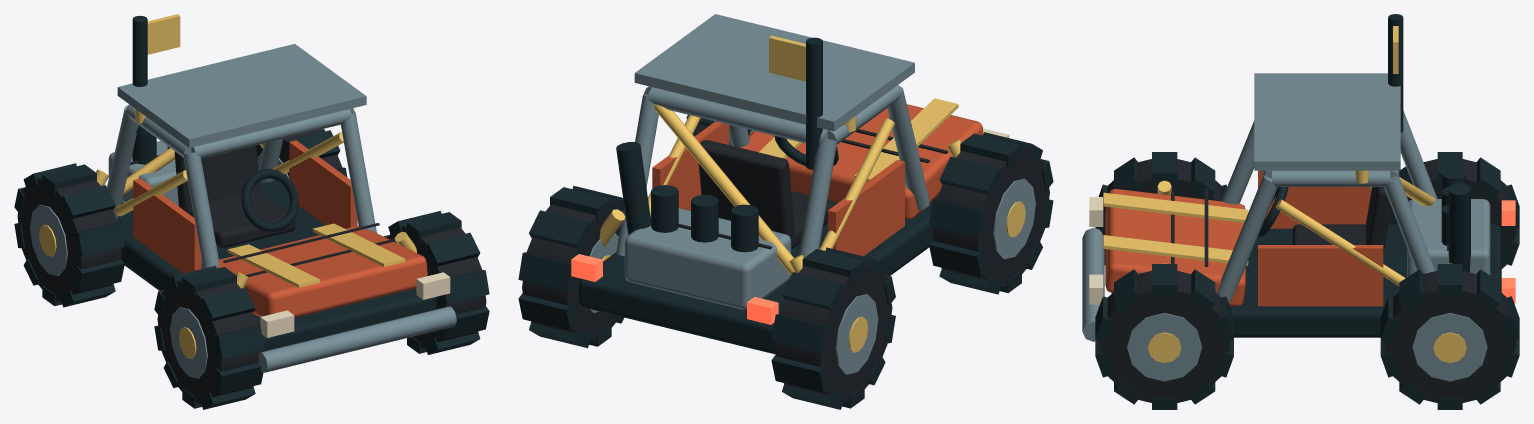
Rendered from row-six-rival-tally.glb.
The picture shows the model from 3 angles, left to right: view 1: azimuth 30°, elevation 25°; view 2: azimuth 150°, elevation 25°; view 3: azimuth 270°, elevation 25°; orthographic projection. The views are drawn at different scales.
Visible parts, largest first — view 1: row-six-rival-tally; view 2: row-six-rival-tally; view 3: row-six-rival-tally.
Boxes of the visible parts, <box> form: row-six-rival-tally: <box>14,14,489,409</box>; row-six-rival-tally: <box>518,14,1053,409</box>; row-six-rival-tally: <box>1082,14,1519,409</box>.
Size of the model in its own units: 2.28 by 2.31 by 3.14.
